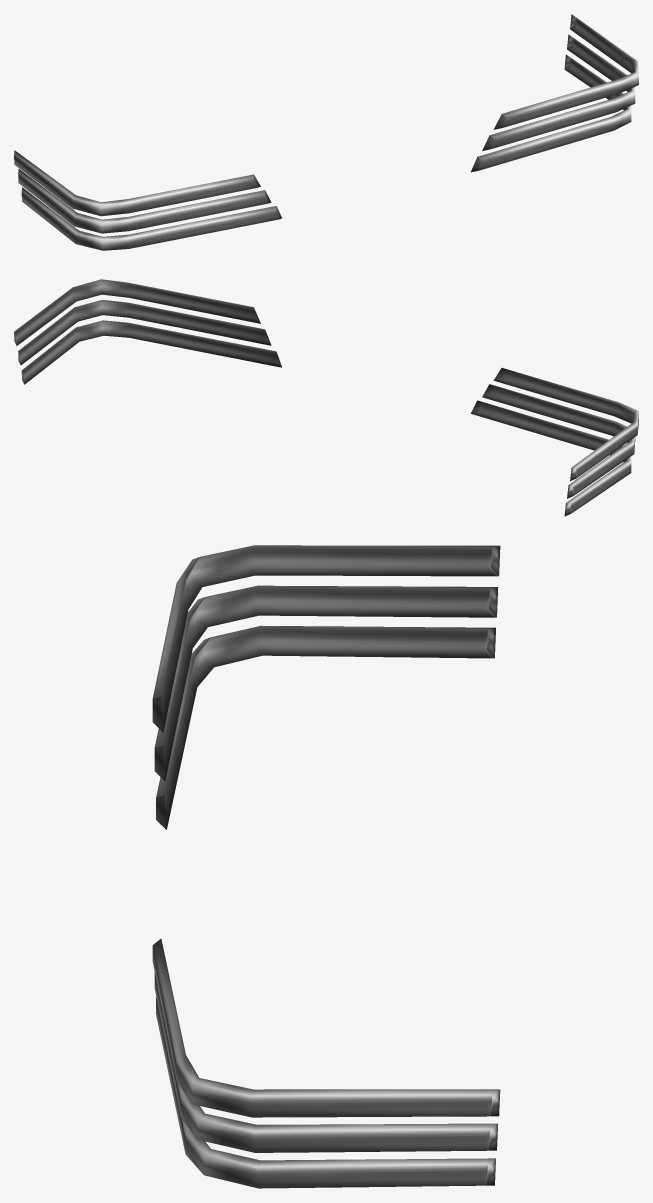
Rendered from bbb_lr_slv1.glb.
3 renders of one model, top to bottom at view 1: azimuth 30°, elevation 25°; view 2: azimuth 150°, elevation 25°; view 3: azimuth 270°, elevation 25°, orthographic. The views are drawn at different scales.
Visible parts, largest first — view 1: bbb_lr_slv1; view 2: bbb_lr_slv1; view 3: bbb_lr_slv1.
Part boxes in pixels (left/top/right/bottom): bbb_lr_slv1: left=14, top=14, right=638, bottom=250; bbb_lr_slv1: left=14, top=279, right=638, bottom=516; bbb_lr_slv1: left=152, top=545, right=500, bottom=1188.
Size of the model in its own units: 2.39 by 0.2113 by 0.6367.
Materials: 1 (1 with a texture image).
